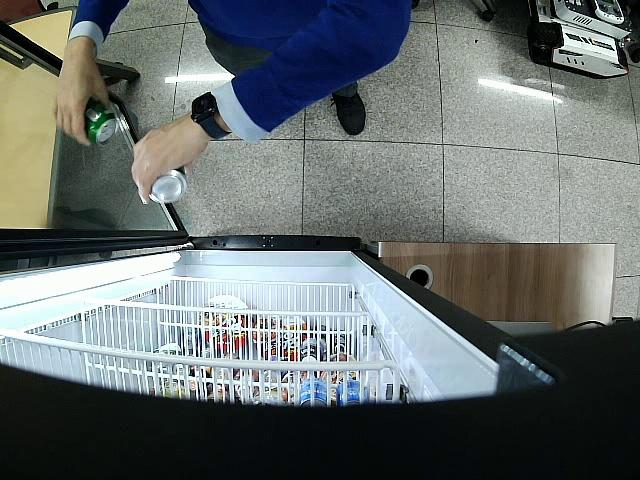00_hand: (132, 118, 205, 204), (52, 47, 109, 146)
12_chilsungCider: (86, 99, 120, 146)
